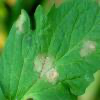Tomato leaf late blight: (3, 2, 100, 98)
